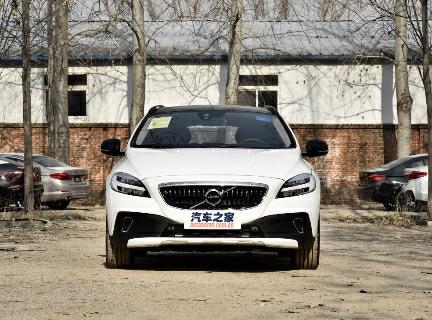沃尔沃-V40: (102, 102, 328, 271)
